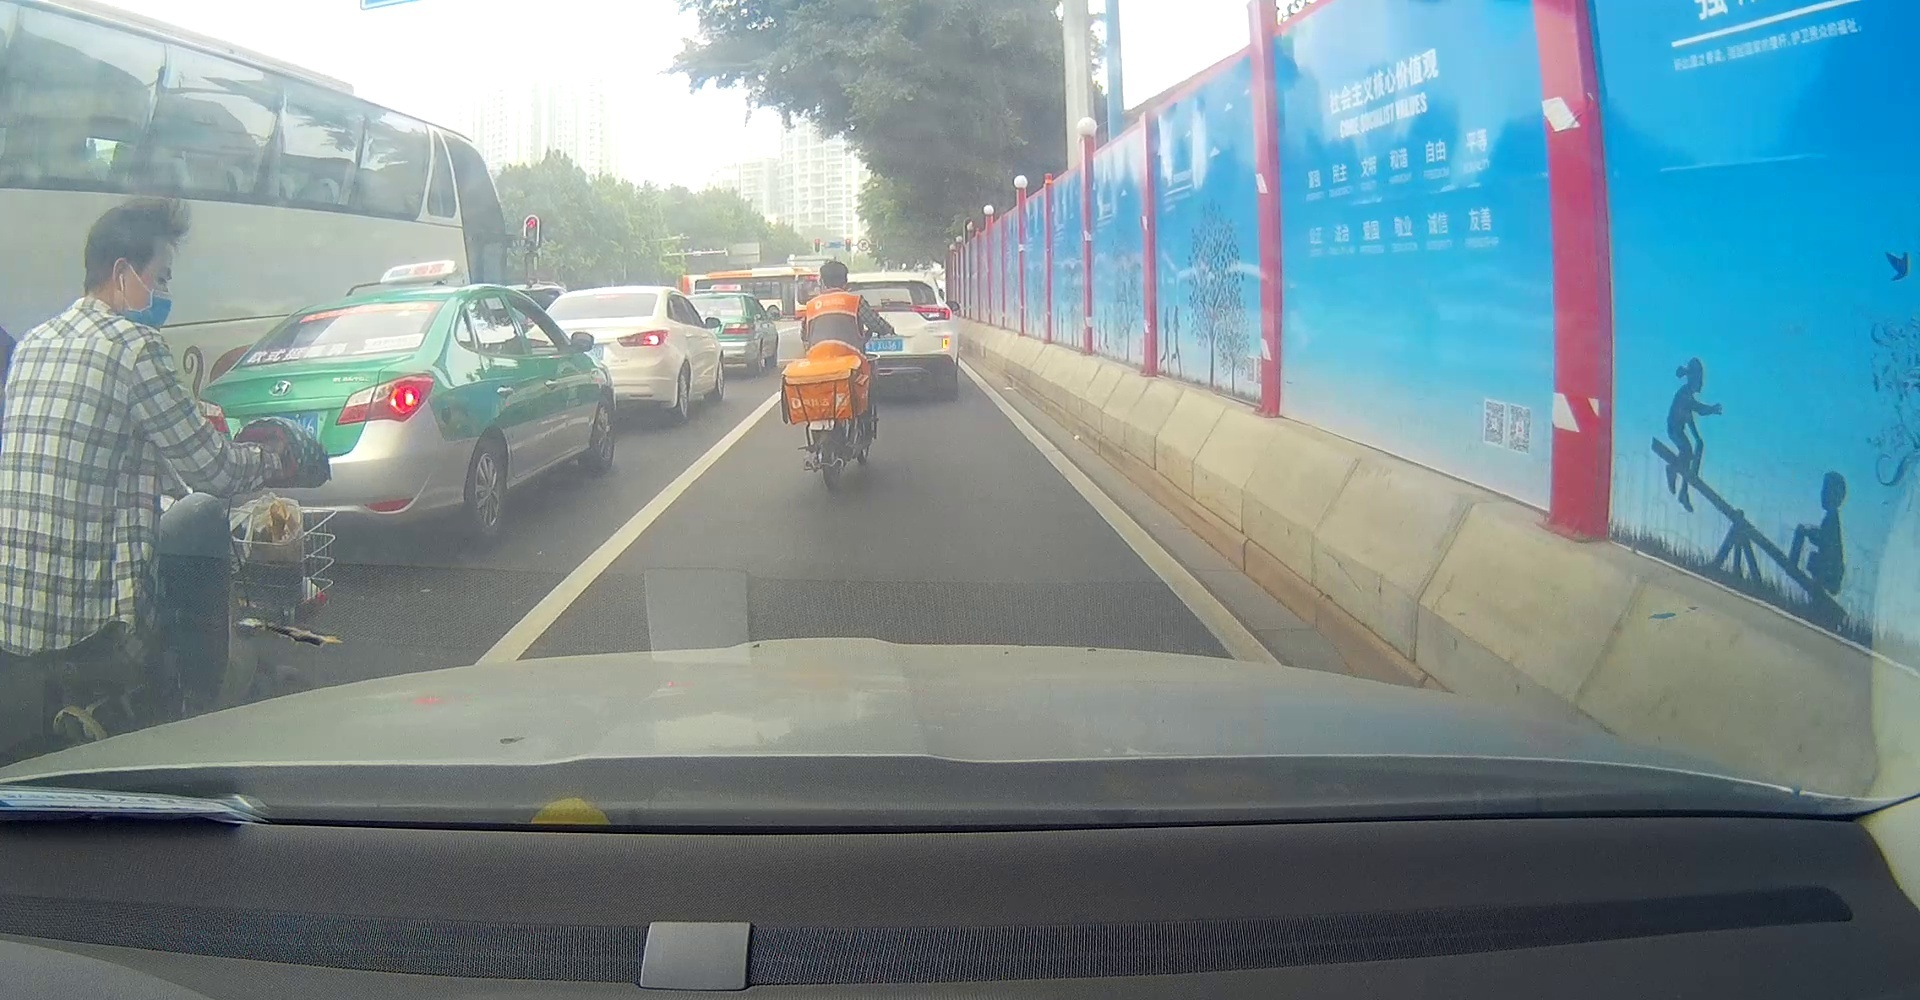L_light: (196, 398, 232, 437)
R_light: (333, 371, 436, 426)
T_light: (356, 299, 396, 313)
night-no: (193, 291, 461, 563)
